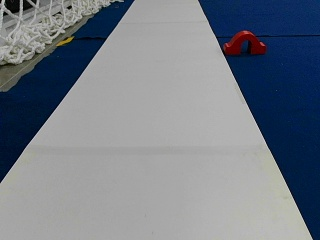bridge: (224, 31, 265, 53)
